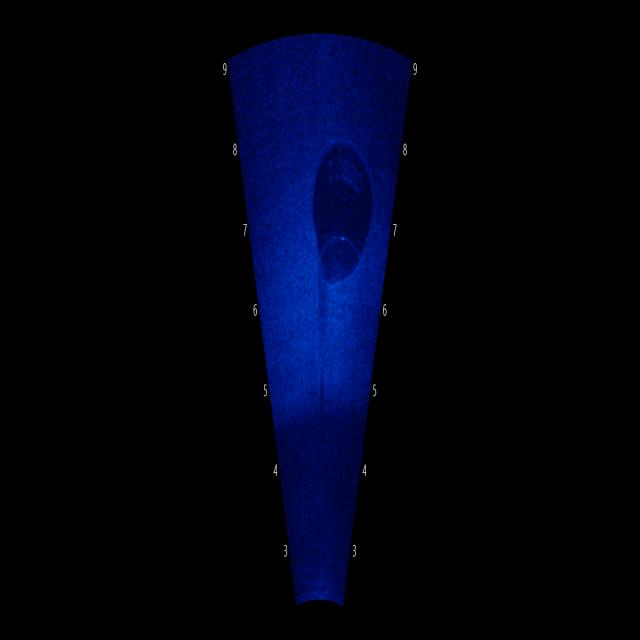circle: (300, 132, 386, 300)
